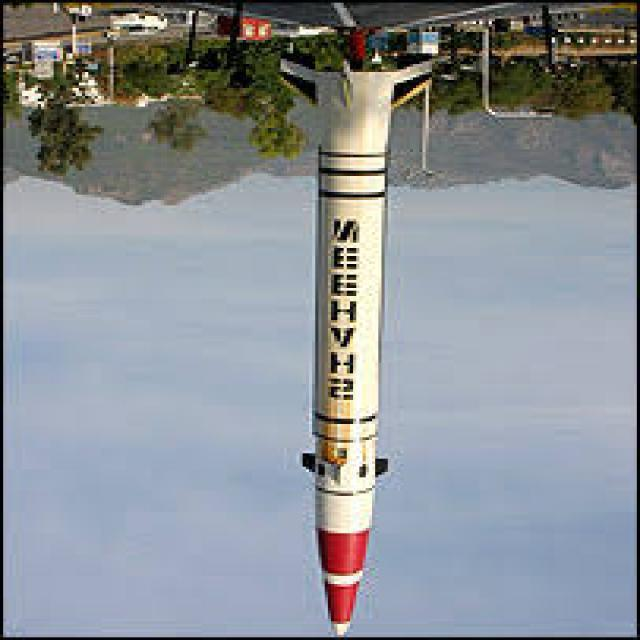missile: (272, 45, 430, 634)
